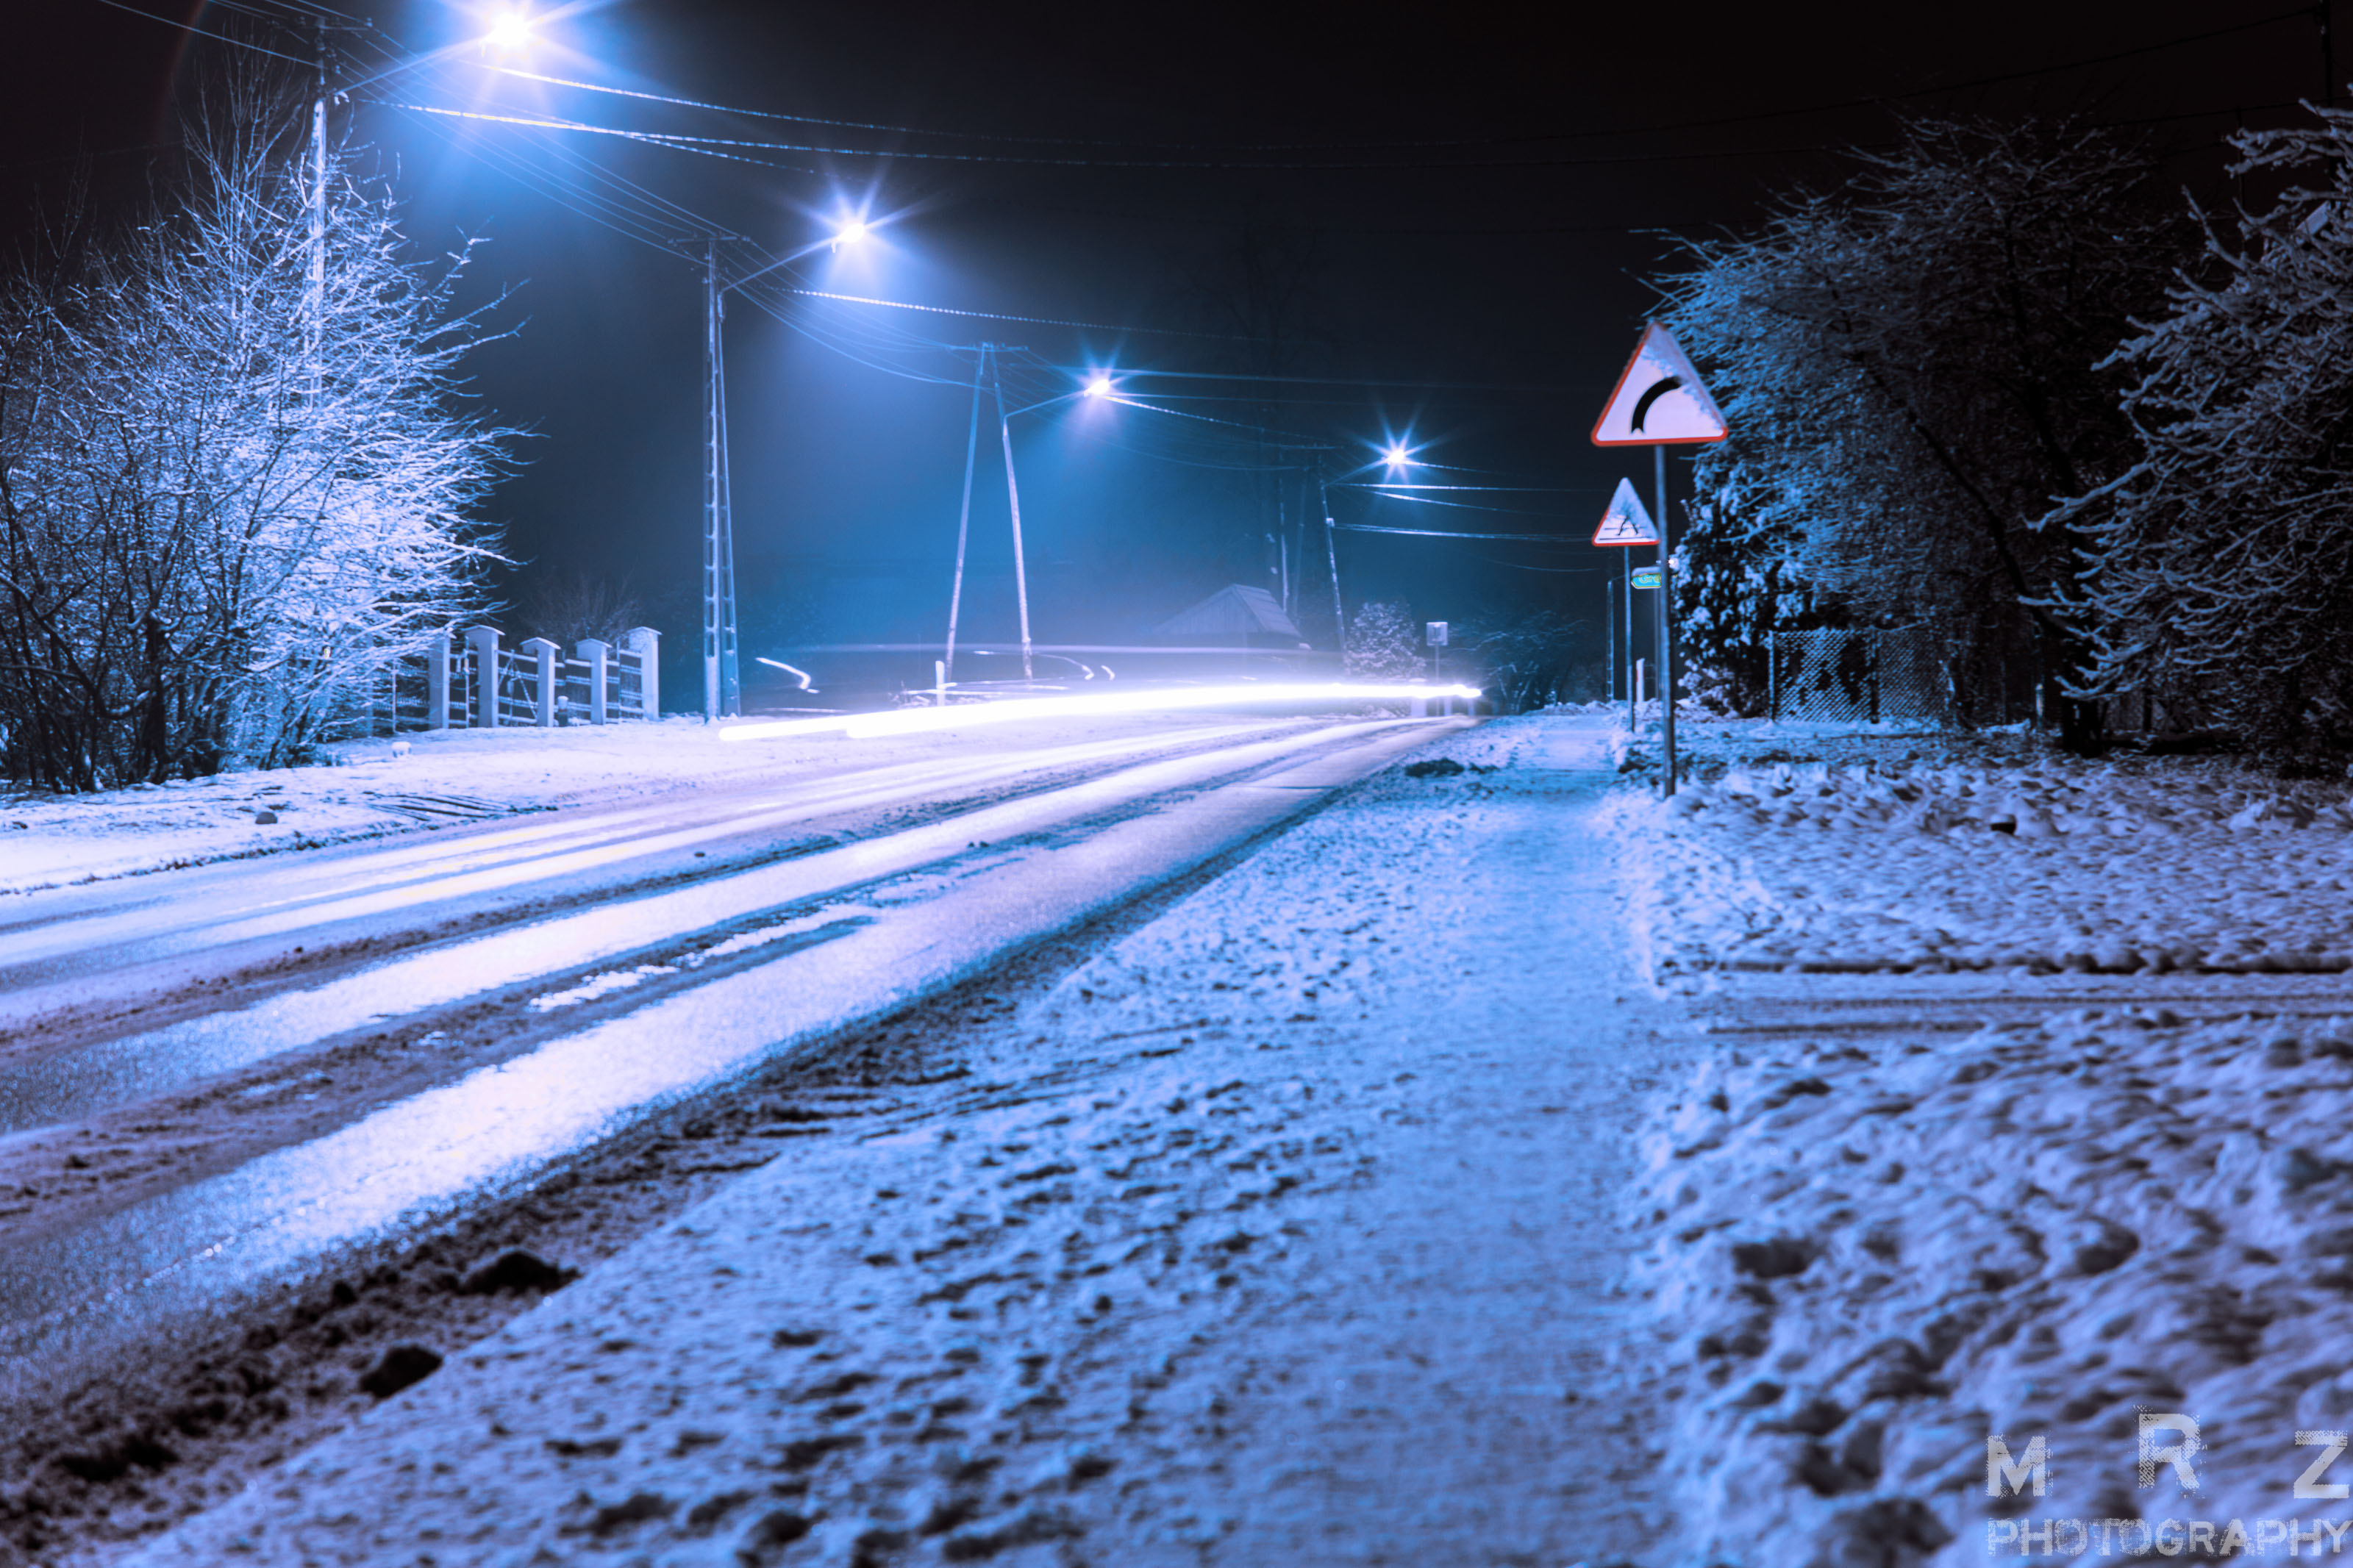sign: (1586, 320, 1730, 451), (1583, 471, 1668, 553)
